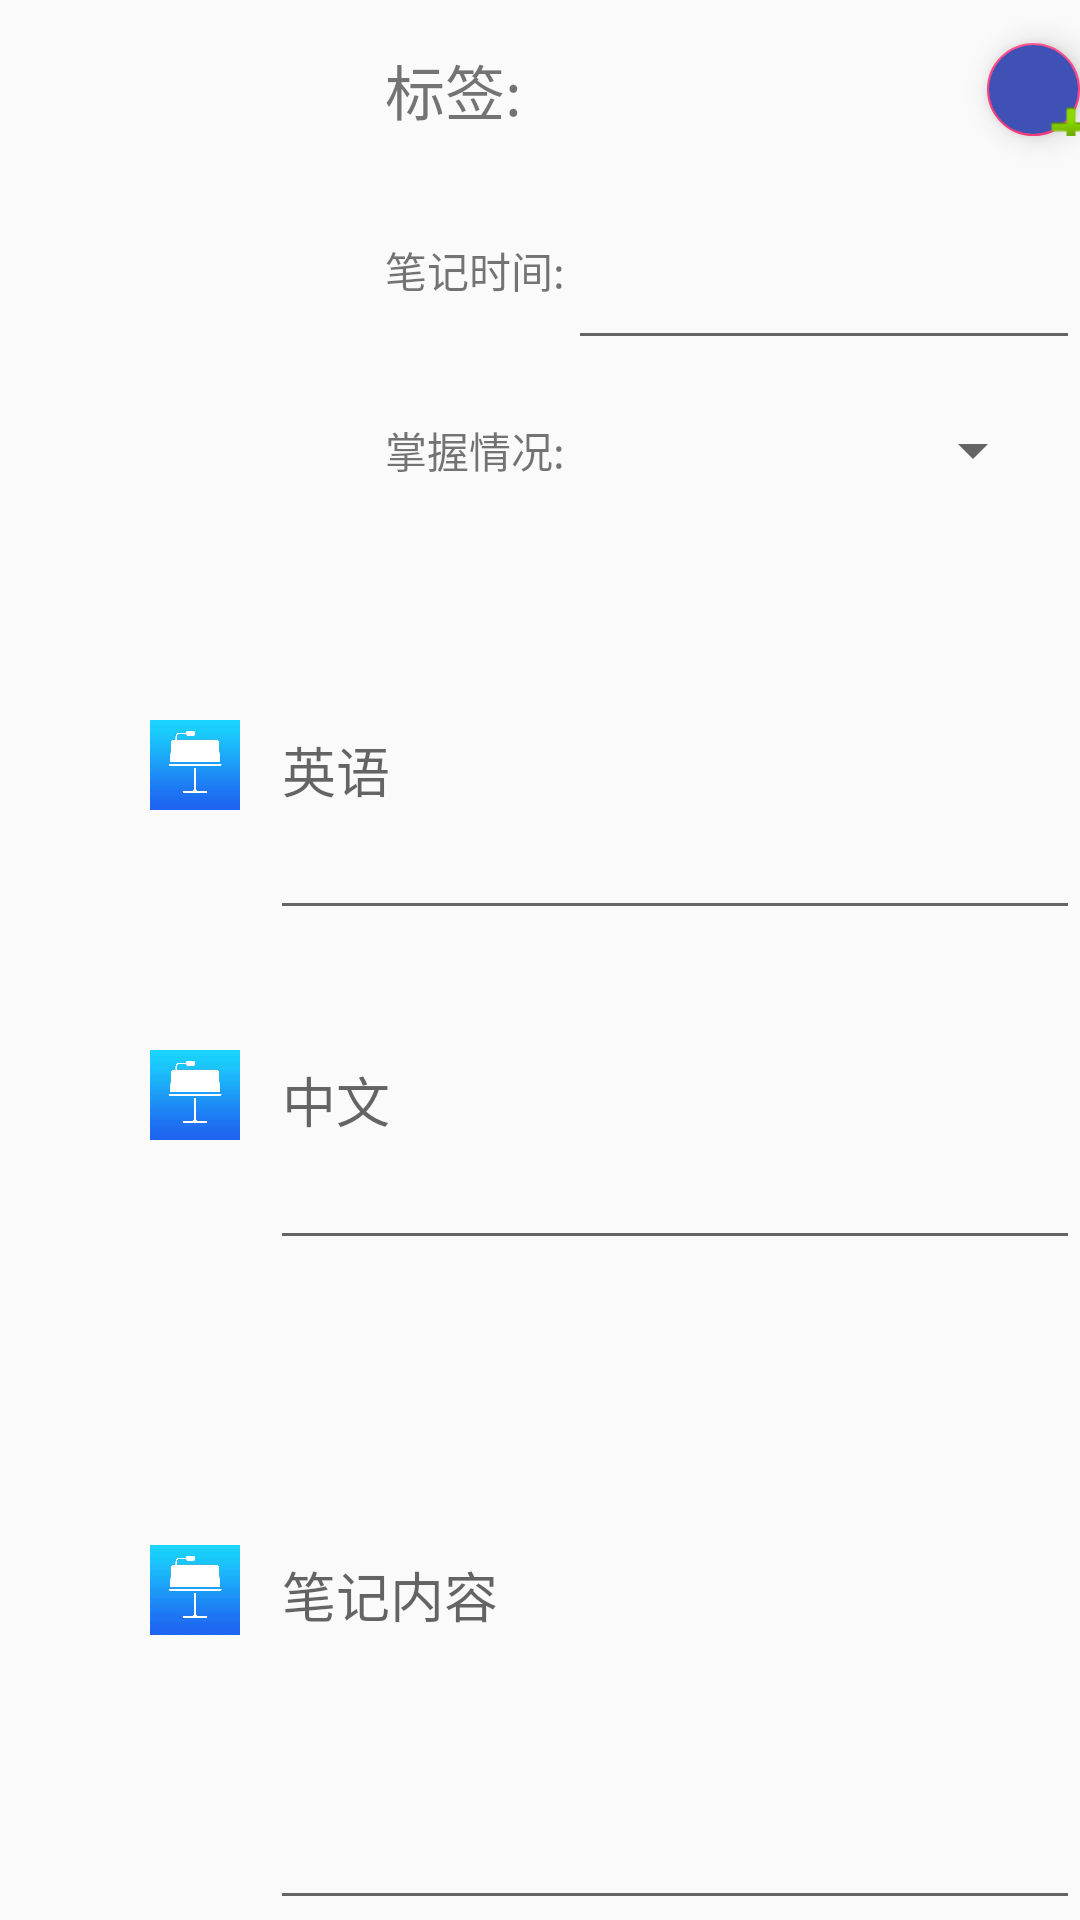

Where icons sit on this 1080 x 1920 app screen, as (x1, y1, x2, y2):
add: (987, 43, 1080, 136)
